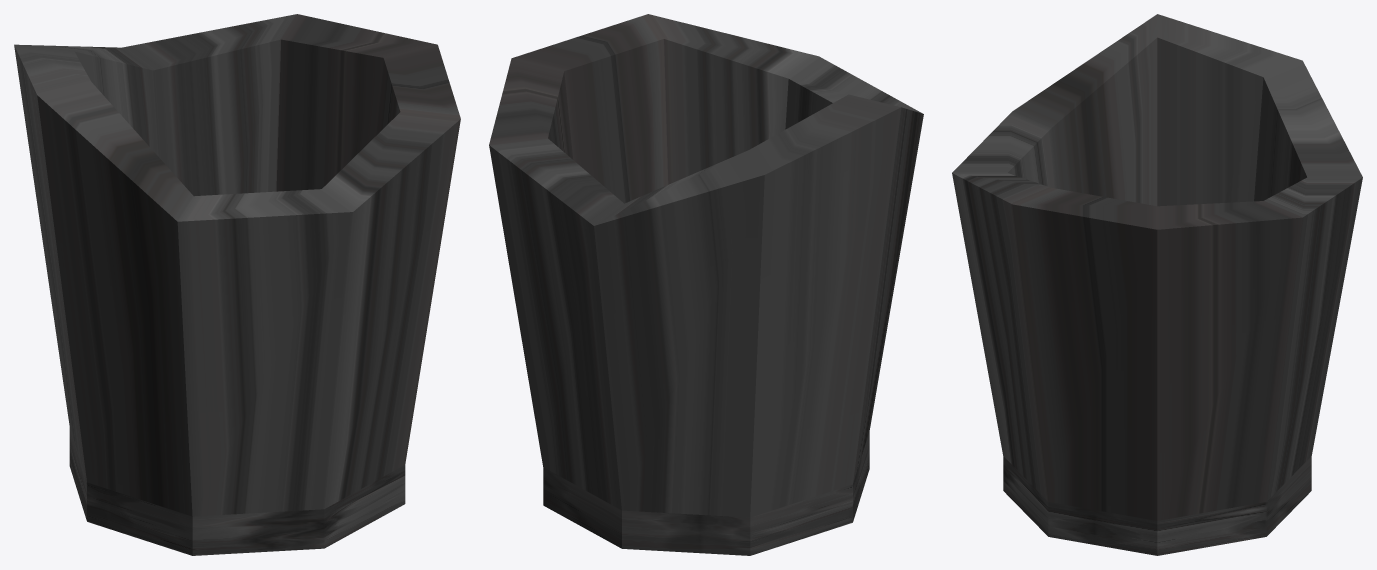
The model's file is Bucket.fbx.
The picture shows the model from 3 angles, left to right: view 1: azimuth 30°, elevation 25°; view 2: azimuth 150°, elevation 25°; view 3: azimuth 270°, elevation 25°; orthographic projection. The views are drawn at different scales.
Parts seen in each view (by area): view 1: Basin; view 2: Basin; view 3: Basin.
Part boxes in pixels (bbox=[...]): Basin: bbox=[14, 14, 460, 555]; Basin: bbox=[489, 14, 923, 555]; Basin: bbox=[952, 14, 1362, 555].
Size of the model in its own units: 6.9 by 7.22 by 6.9.
Materials: 1 (1 with a texture image).
